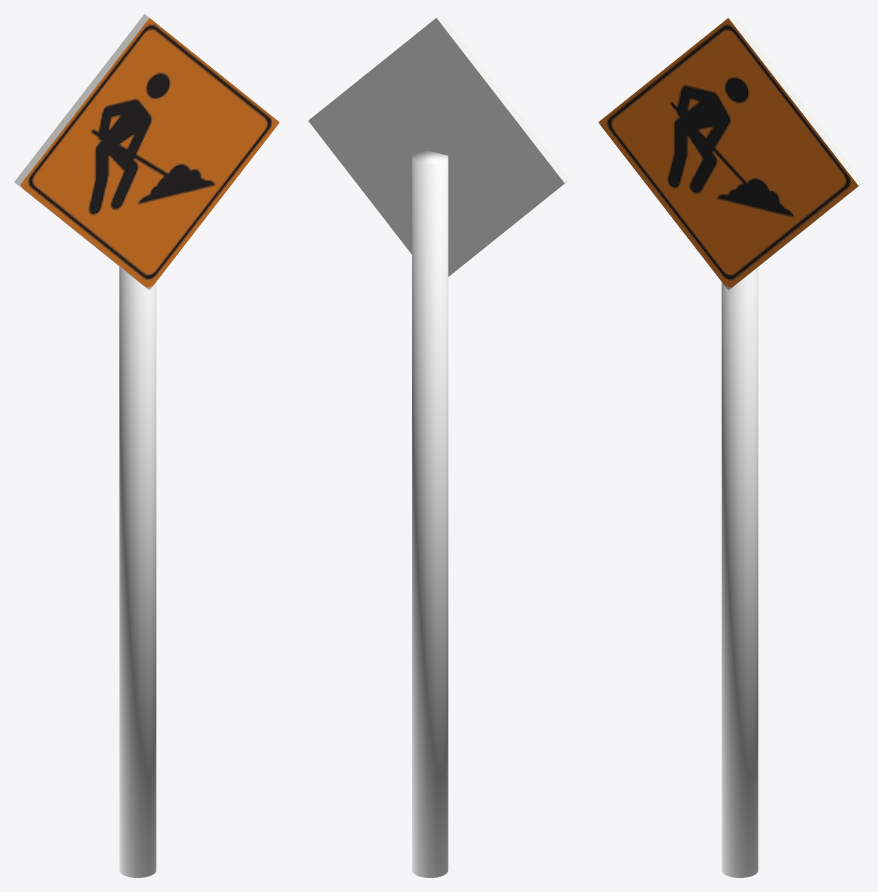
File: señal construcción.fbx
3 renders of one model, left to right at view 1: azimuth 30°, elevation 25°; view 2: azimuth 150°, elevation 25°; view 3: azimuth 330°, elevation 25°, orthographic.
Visible parts, largest first — view 1: Cylinder.001; view 2: Cylinder.001; view 3: Cylinder.001.
Boxes of the visible parts, left/top/right/bottom form: Cylinder.001: left=14, top=14, right=279, bottom=877; Cylinder.001: left=308, top=14, right=569, bottom=877; Cylinder.001: left=598, top=14, right=863, bottom=877.
Size of the model in its own units: 81.45 by 257 by 11.32.
2 materials, 2 textured.
